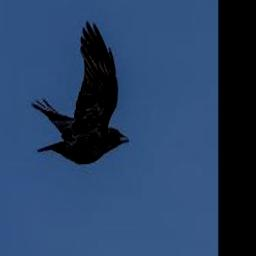Crow: (32, 22, 130, 163)
